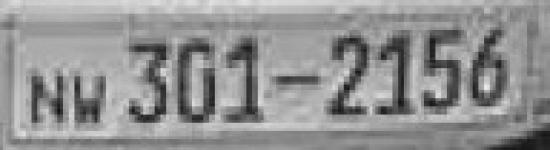-: (271, 72, 323, 89)
0: (175, 36, 221, 132)
1: (222, 33, 270, 129), (372, 25, 419, 121)
2: (324, 28, 372, 119)
3: (125, 39, 173, 129)
5: (419, 23, 469, 118)
6: (467, 22, 515, 112)
N: (28, 69, 68, 130)
W: (72, 68, 112, 130)
